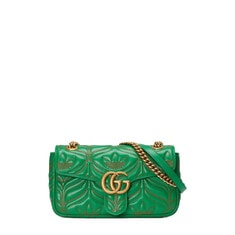Gucci: (49, 137, 184, 221), (92, 168, 139, 200)
